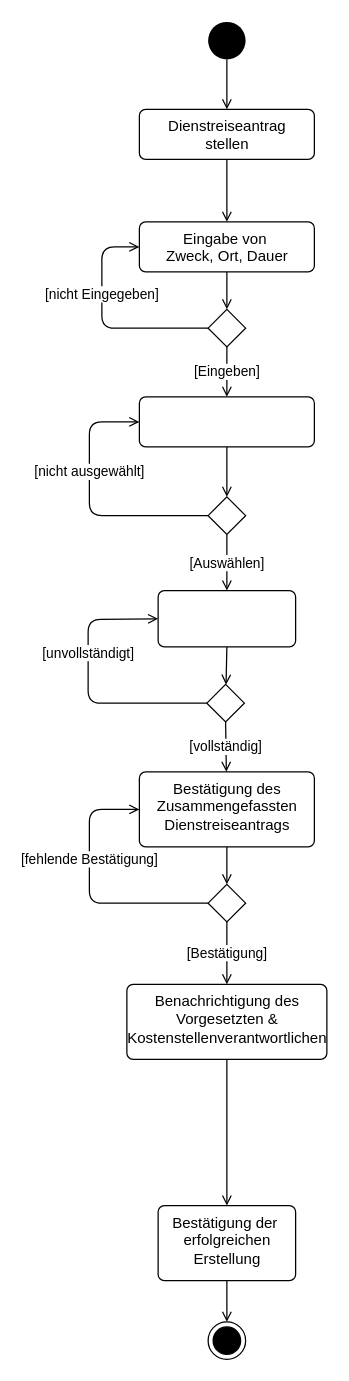
Image size: 349x1381. Some labels were removed from this diagram. Here are the shapes that lost their labels. From the top down, the centre of each, then its label:
point (226, 421): Auswahl der Kostenstelle
point (226, 618): Angabenprüfung auf Vollständigkeit
